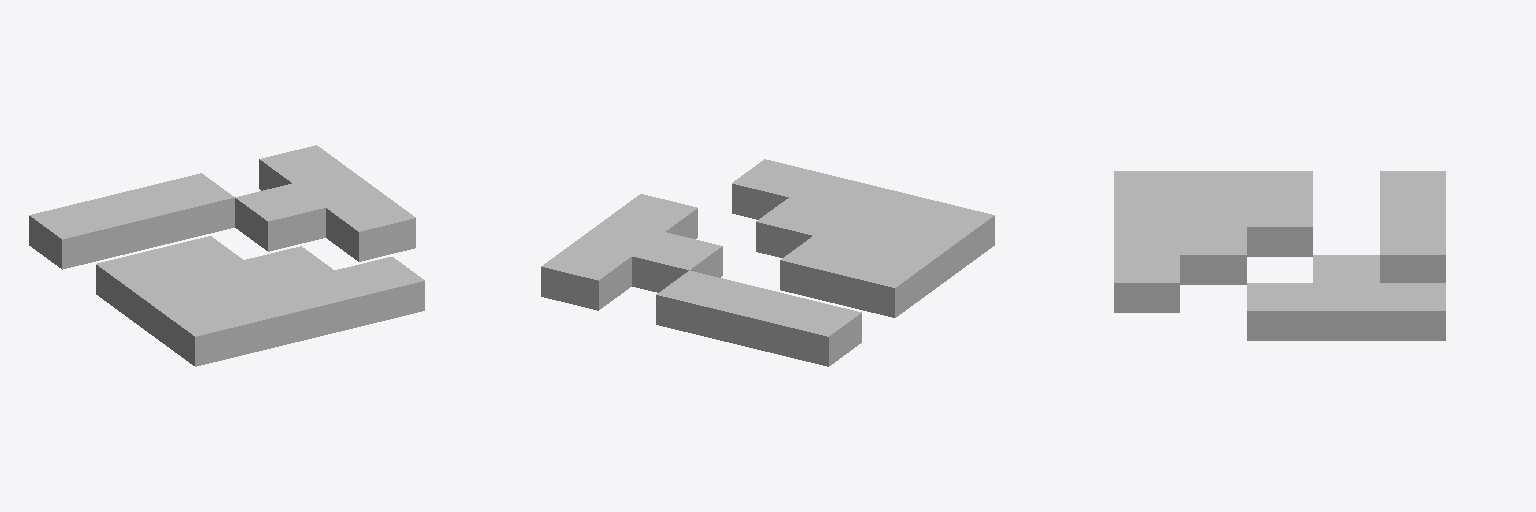
The model's file is 90f_block.obj.
3 renders of one model, left to right at view 1: azimuth 30°, elevation 25°; view 2: azimuth 150°, elevation 25°; view 3: azimuth 270°, elevation 25°, orthographic.
Parts seen in each view (by area): view 1: foil.block.0.4_block.5597, foil.block.0.0_block.5594, foil.block.3.3_block.5606, foil.block.4.2_block.5608, foil.block.2.4_block.5604, foil.block.2.0_block.5602, foil.block.1.0_block.5598, foil.block.1.4_block.5601, foil.block.3.0_block.5605, foil.block.0.2_block.5596, foil.block.0.1_block.5595, foil.block.4.4_block.5610 (+4 smaller); view 2: foil.block.4.4_block.5610, foil.block.0.4_block.5597, foil.block.0.2_block.5596, foil.block.3.3_block.5606, foil.block.1.2_block.5600, foil.block.2.4_block.5604, foil.block.1.4_block.5601, foil.block.2.1_block.5603, foil.block.3.0_block.5605, foil.block.0.1_block.5595, foil.block.0.0_block.5594, foil.block.4.2_block.5608 (+4 smaller); view 3: foil.block.2.1_block.5603, foil.block.4.3_block.5609, foil.block.1.2_block.5600, foil.block.3.0_block.5605, foil.block.4.2_block.5608, foil.block.4.4_block.5610, foil.block.2.4_block.5604, foil.block.0.1_block.5595, foil.block.1.1_block.5599, foil.block.3.3_block.5606, foil.block.0.0_block.5594, foil.block.0.2_block.5596 (+4 smaller).
Boxes of the visible parts, box(x1,y1,x2,y2) form: foil.block.0.4_block.5597: box(29, 201, 119, 269); foil.block.0.0_block.5594: box(162, 298, 252, 366); foil.block.3.3_block.5606: box(235, 183, 325, 251); foil.block.4.2_block.5608: box(326, 194, 415, 261); foil.block.2.4_block.5604: box(145, 173, 234, 241); foil.block.2.0_block.5602: box(277, 270, 367, 338); foil.block.1.0_block.5598: box(220, 285, 309, 352); foil.block.1.4_block.5601: box(87, 187, 176, 254); foil.block.3.0_block.5605: box(335, 257, 424, 324); foil.block.0.2_block.5596: box(96, 250, 184, 317); foil.block.0.1_block.5595: box(129, 274, 218, 341); foil.block.4.4_block.5610: box(259, 145, 348, 190); foil.block.4.4_block.5610: box(541, 242, 631, 310); foil.block.0.4_block.5597: box(771, 298, 861, 366); foil.block.0.2_block.5596: box(838, 250, 927, 317); foil.block.3.3_block.5606: box(632, 232, 722, 292); foil.block.1.2_block.5600: box(780, 236, 869, 303); foil.block.2.4_block.5604: box(656, 270, 746, 338); foil.block.1.4_block.5601: box(714, 285, 803, 352); foil.block.2.1_block.5603: box(756, 198, 846, 257); foil.block.3.0_block.5605: box(732, 159, 821, 219); foil.block.0.1_block.5595: box(871, 226, 961, 293); foil.block.0.0_block.5594: box(904, 201, 994, 268); foil.block.4.2_block.5608: box(608, 194, 697, 238); foil.block.2.1_block.5603: box(1180, 227, 1246, 284); foil.block.4.3_block.5609: box(1313, 283, 1379, 340); foil.block.1.2_block.5600: box(1247, 199, 1312, 256); foil.block.3.0_block.5605: box(1114, 255, 1179, 312); foil.block.4.2_block.5608: box(1247, 283, 1312, 340); foil.block.4.4_block.5610: box(1380, 283, 1445, 340); foil.block.2.4_block.5604: box(1380, 227, 1445, 282); foil.block.0.1_block.5595: box(1180, 171, 1246, 198); foil.block.1.1_block.5599: box(1180, 199, 1246, 226); foil.block.3.3_block.5606: box(1313, 255, 1379, 282); foil.block.0.0_block.5594: box(1114, 171, 1179, 198); foil.block.0.2_block.5596: box(1247, 171, 1312, 198).
Size of the model in its own units: 10 by 1 by 10.